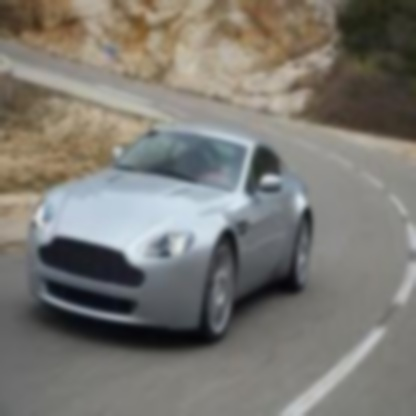Vehicle: (26, 123, 320, 357)
